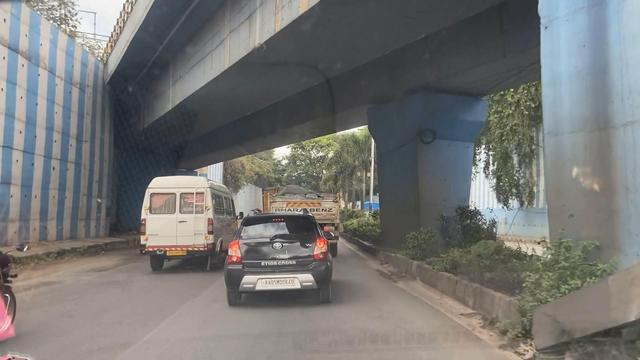HMV: (137, 173, 234, 273), (260, 185, 346, 261)
LMV: (219, 207, 335, 309), (0, 214, 43, 344)
